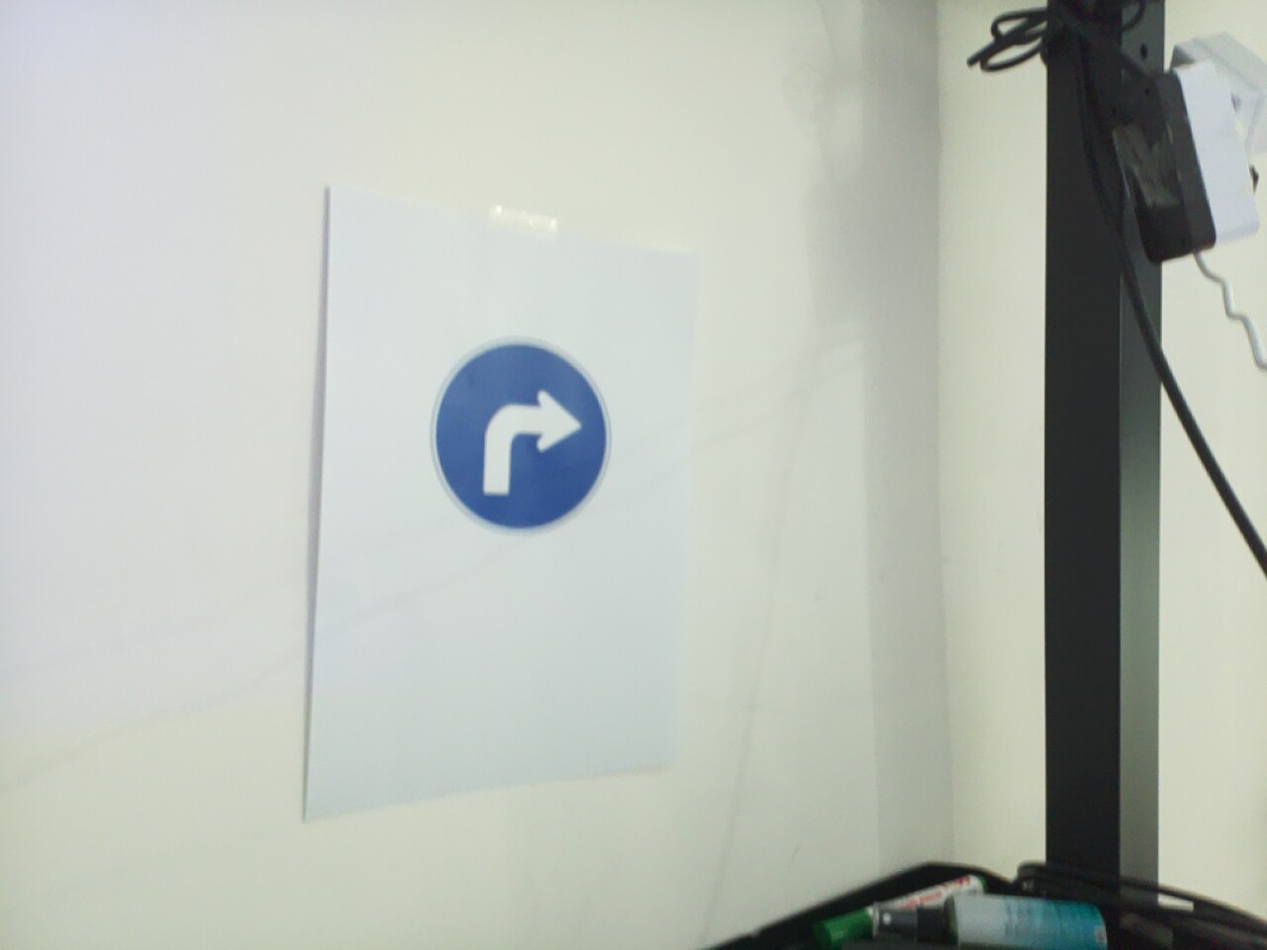right_turn: (1151, 0, 1267, 950)
